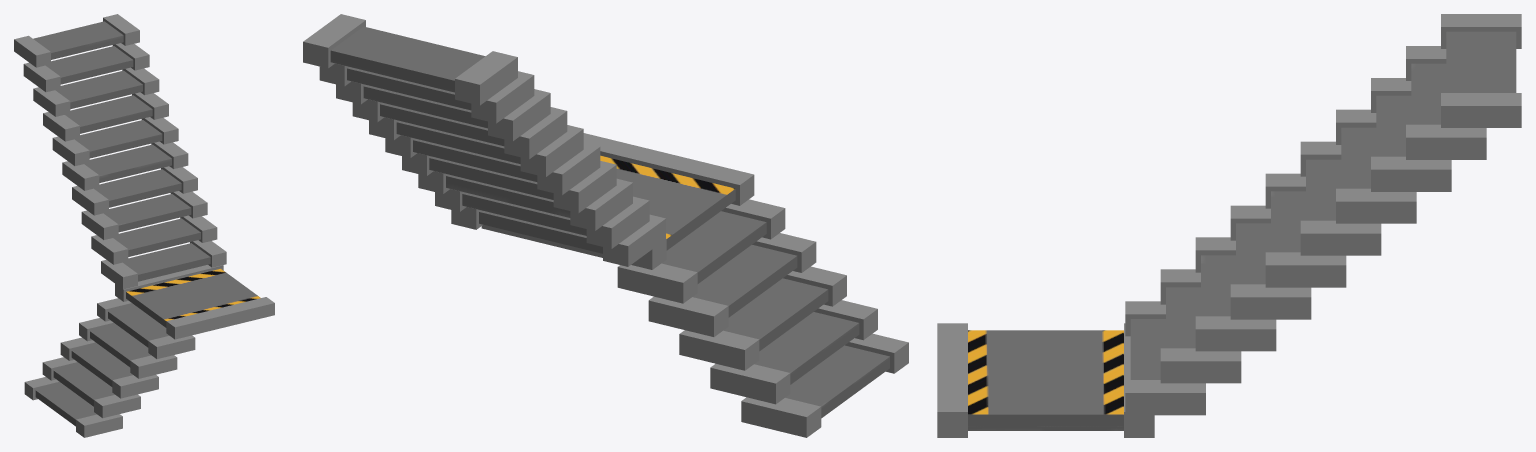
Rendered from SM_B1_Stairs.fbx.
3 views of the same model, side by side, from view 1: azimuth 30°, elevation 25°; view 2: azimuth 150°, elevation 25°; view 3: azimuth 270°, elevation 25° (orthographic). The views are drawn at different scales.
Visible parts, largest first — view 1: SM_B1_Stairs; view 2: SM_B1_Stairs; view 3: SM_B1_Stairs.
Part boxes in pixels (<box>): SM_B1_Stairs: <box>14,14,274,437</box>; SM_B1_Stairs: <box>303,14,908,437</box>; SM_B1_Stairs: <box>937,14,1521,437</box>.
Bounding box in the file's own units: 273 × 391 × 347.
1 material, 1 textured.
